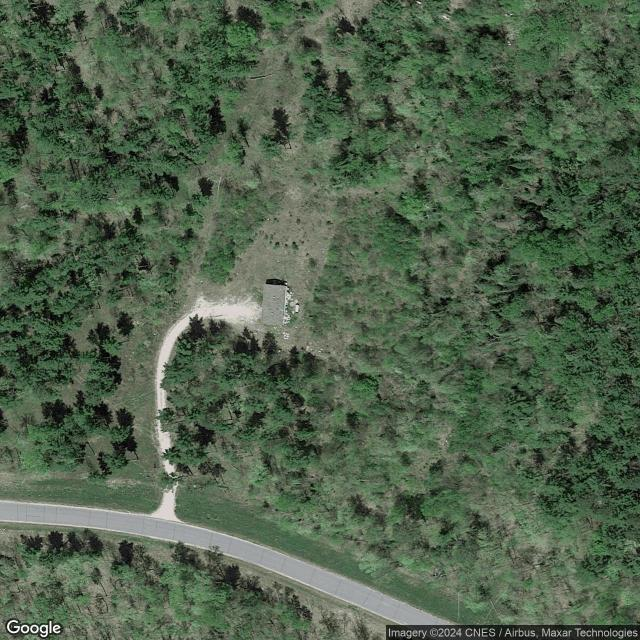Propane: (295, 303, 300, 314)
